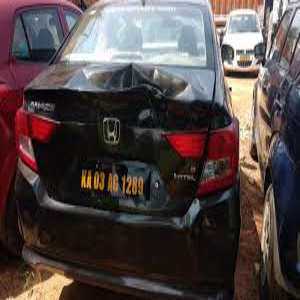bonnet: (52, 57, 203, 106)
